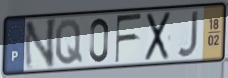0: (89, 17, 110, 64)
F: (114, 11, 143, 65)
J: (176, 9, 201, 60)
N: (23, 16, 59, 73)
Q: (54, 18, 84, 67)
X: (143, 9, 173, 63)
